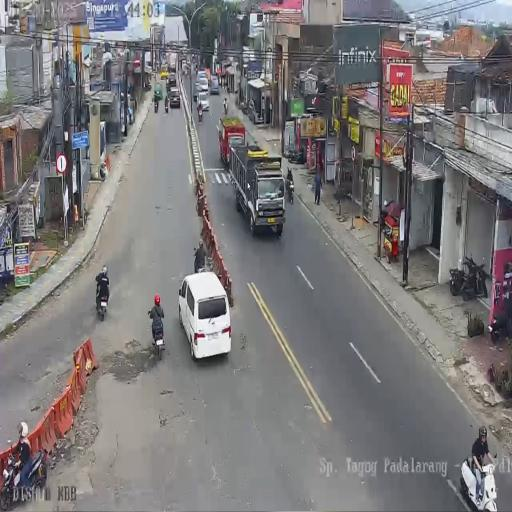car: (178, 272, 233, 361), (169, 87, 181, 108), (194, 81, 206, 101), (210, 76, 219, 95), (154, 83, 163, 100), (167, 70, 176, 86), (160, 63, 168, 79)
motorcycle: (1, 438, 48, 510), (449, 251, 487, 301), (490, 296, 512, 344), (148, 309, 166, 358), (96, 280, 110, 321), (286, 144, 305, 164), (194, 256, 207, 274), (223, 97, 228, 115), (198, 104, 202, 122), (165, 96, 169, 112), (195, 63, 198, 74)
truck: (227, 144, 282, 238), (218, 115, 245, 167), (144, 52, 153, 76), (181, 58, 188, 74)
